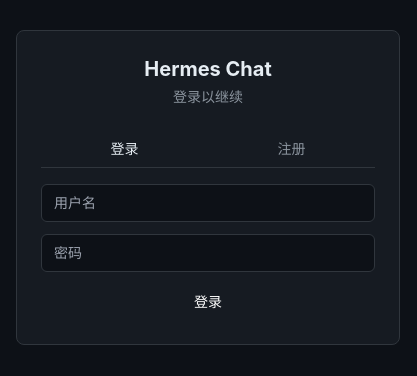
Scenario: LoginPage › 空输入提交显示错误
Step 1. Click the 2nd button "登录" → (208, 302), box [41,284,375,320]
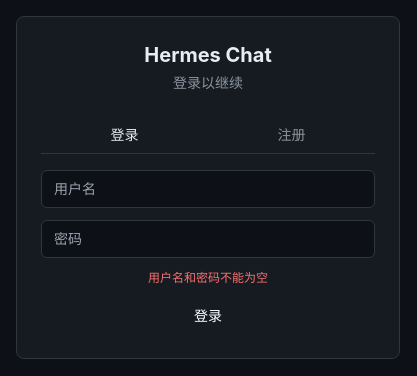
Check: the text "用户名和密码不能为空" is shown, box [148,270,268,284]
